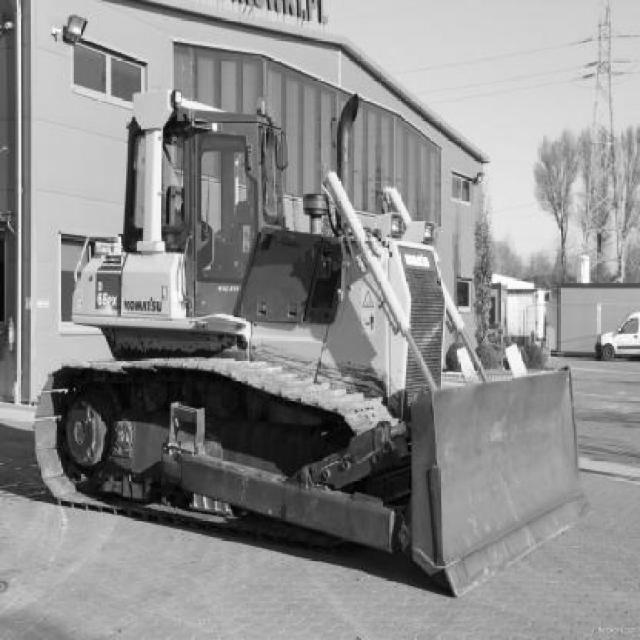Construction Equipment: (31, 89, 592, 599)
